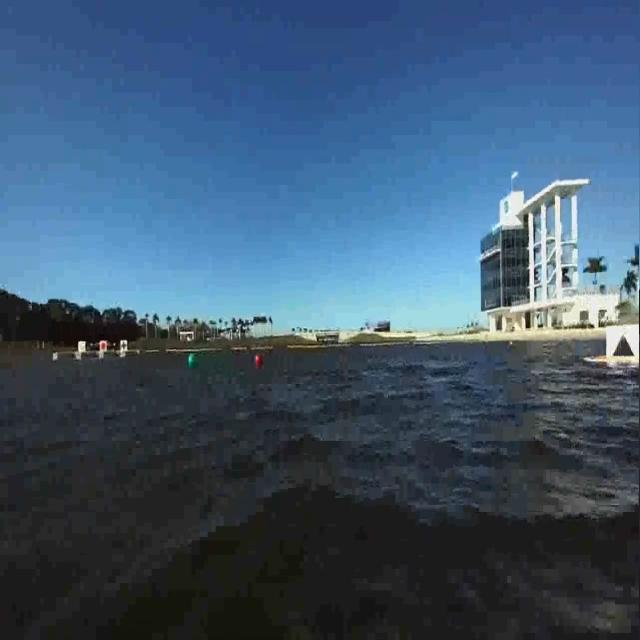red-buoy: (255, 354, 262, 368)
